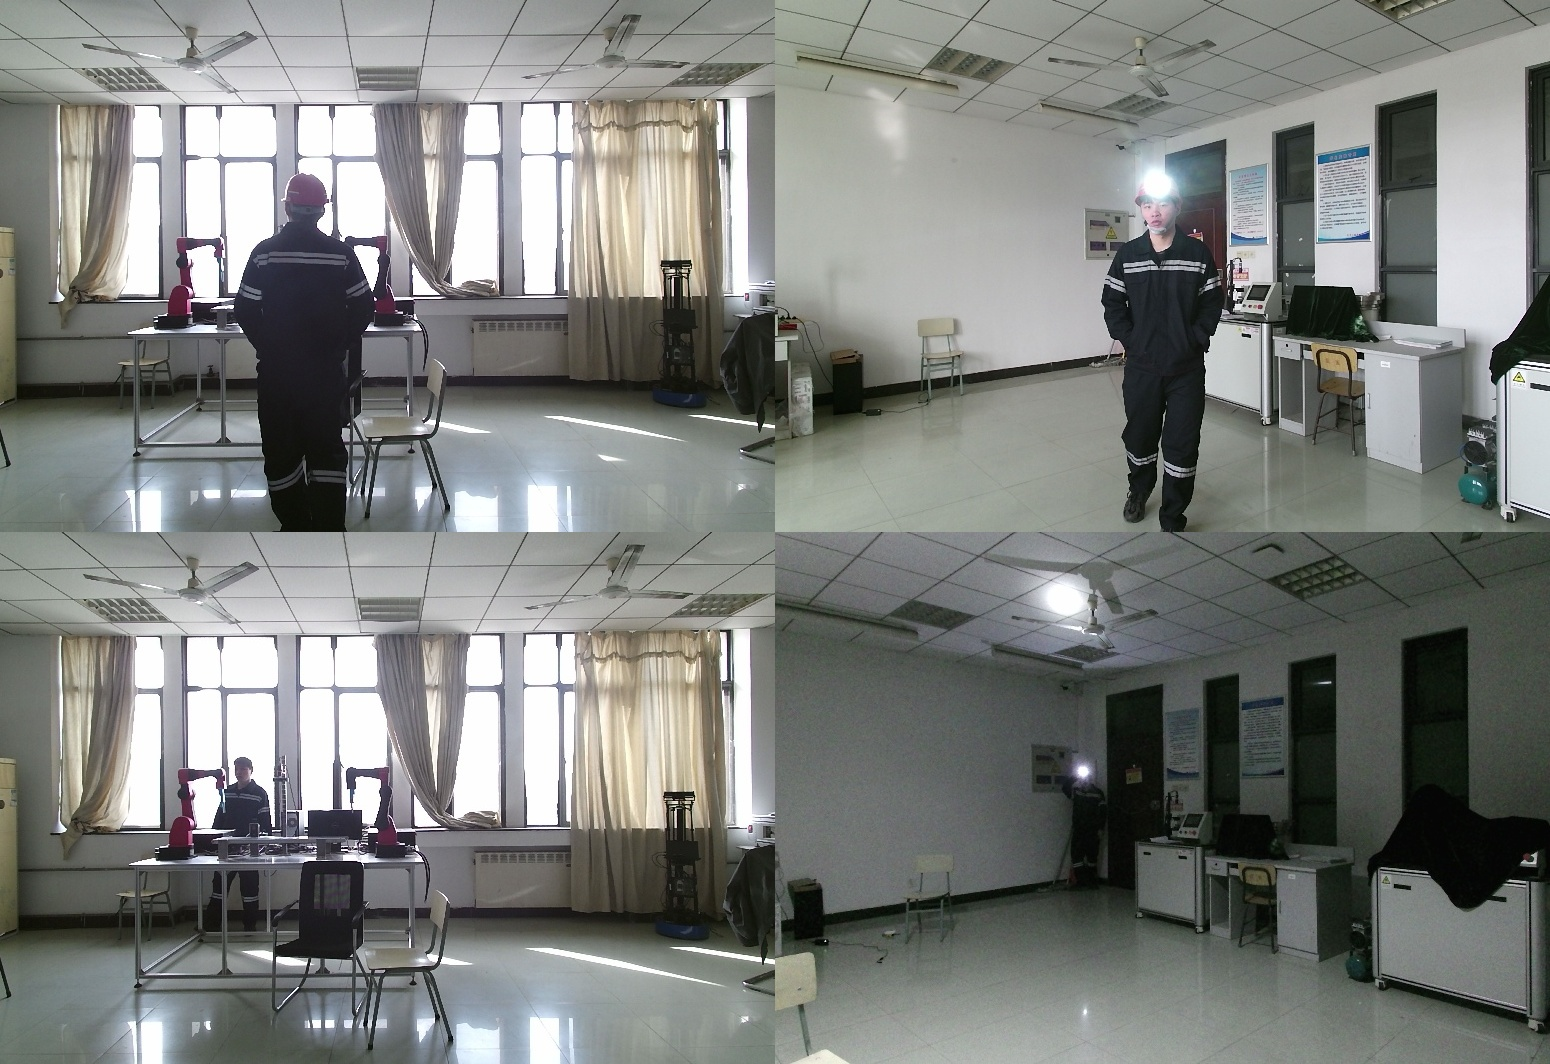person: (236, 176, 377, 532), (1096, 175, 1230, 532), (199, 758, 272, 946), (1061, 765, 1105, 888)
